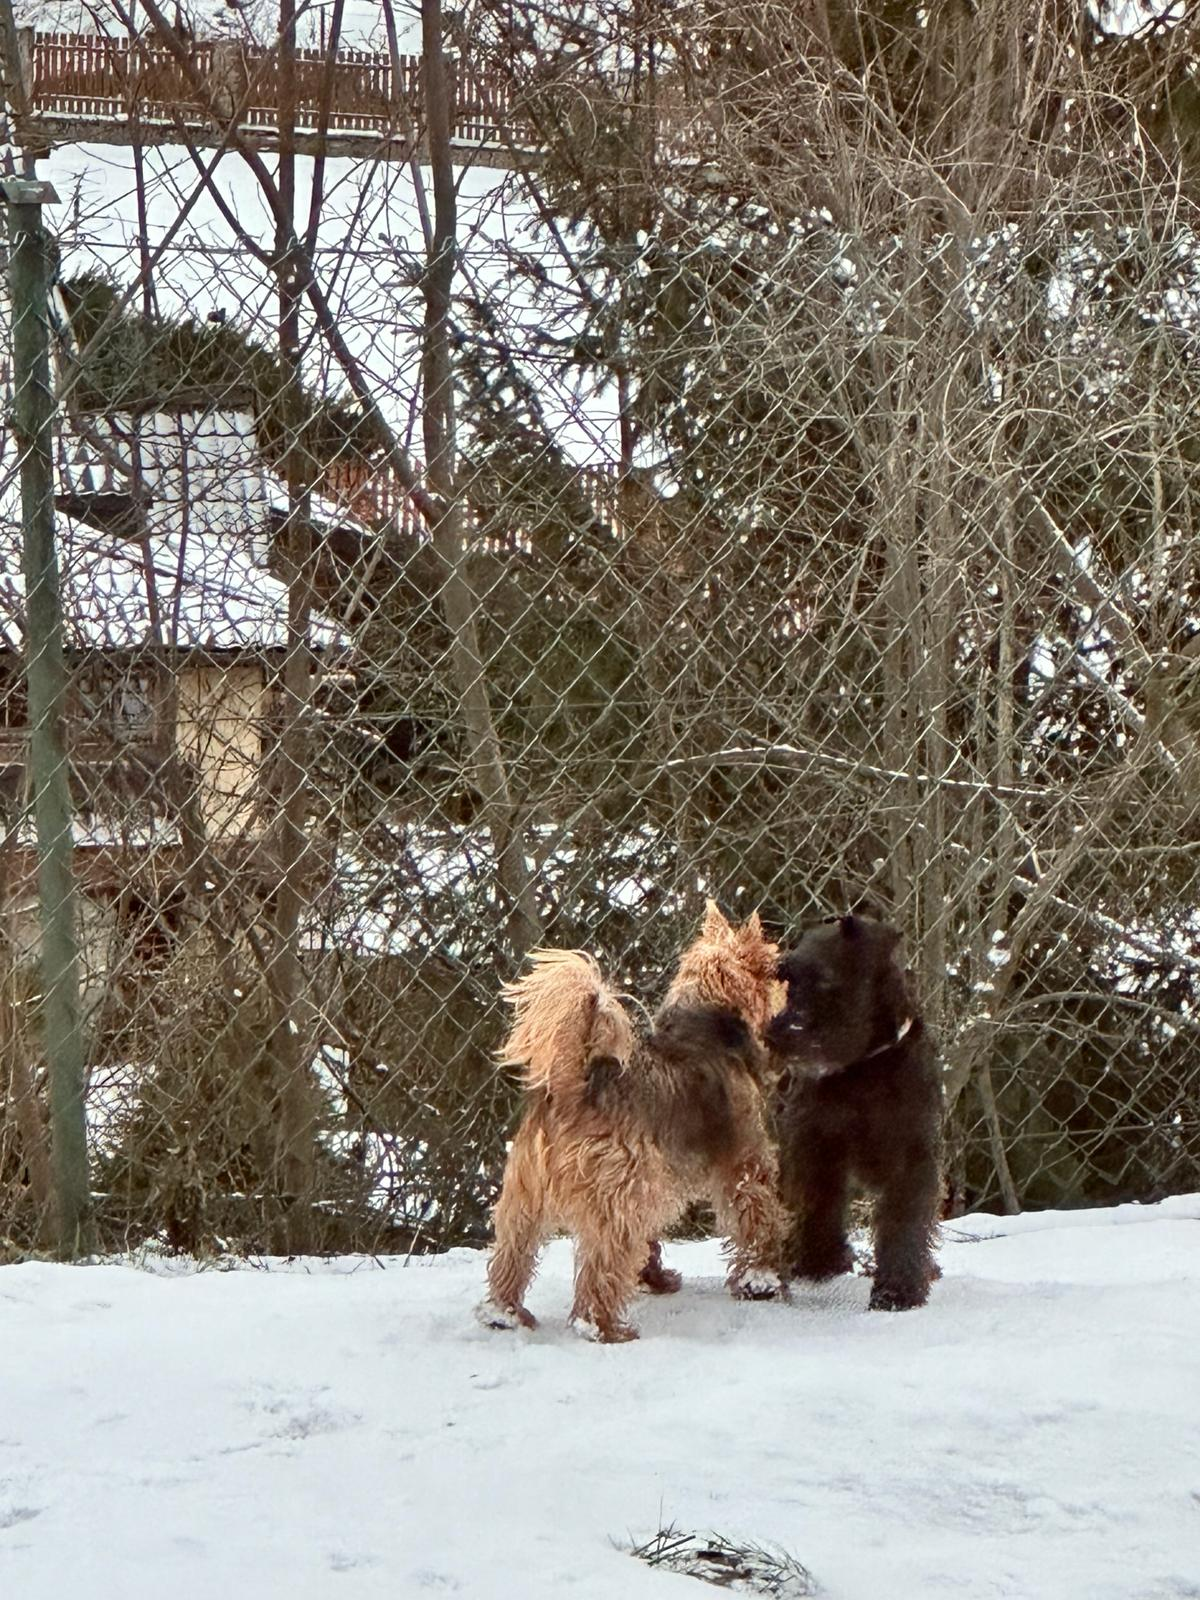stasiu: (377, 888, 929, 1395)
